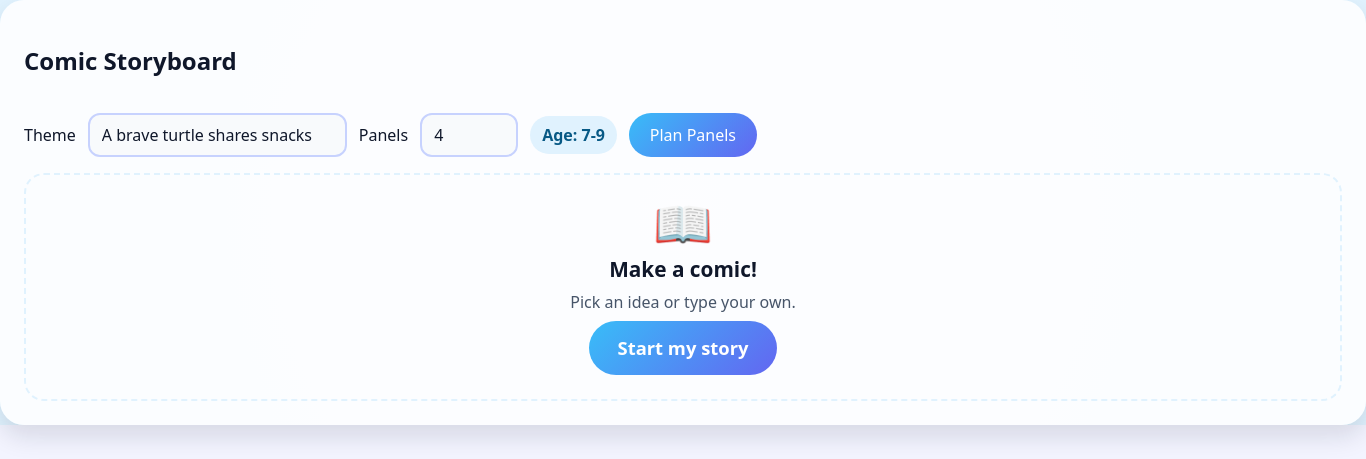
Scenario: ComicBoard continuation, narration, and saving › renders a blocked story as a safety pause, not an error
This screenshot has width=1366, height=459.
Click the button "Plan Panels": {"x": 693, "y": 135} left=629, top=113, right=757, bottom=157
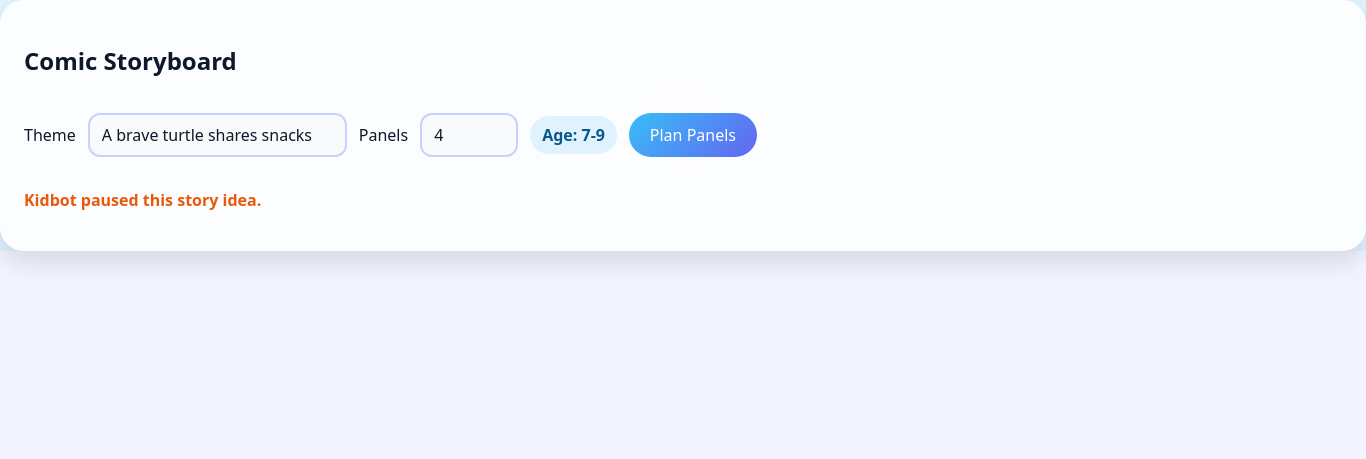
Expected: the text "Kidbot paused this story idea." is shown, left=24, top=189, right=261, bottom=211
